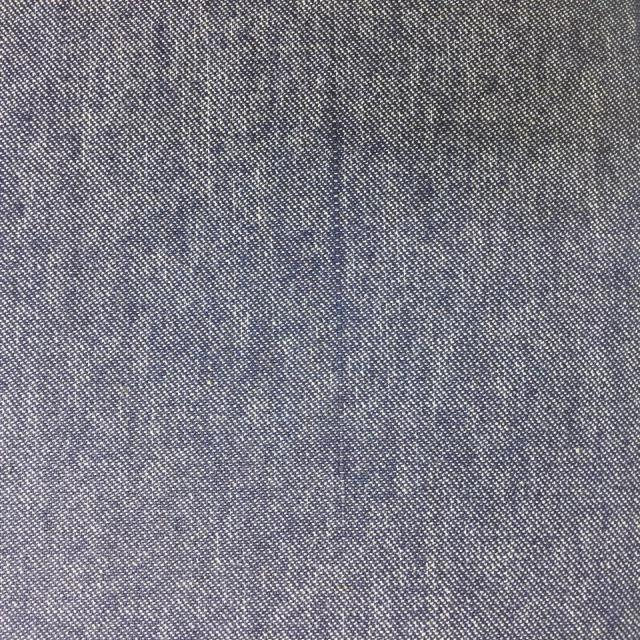Line: (328, 14, 346, 509)
